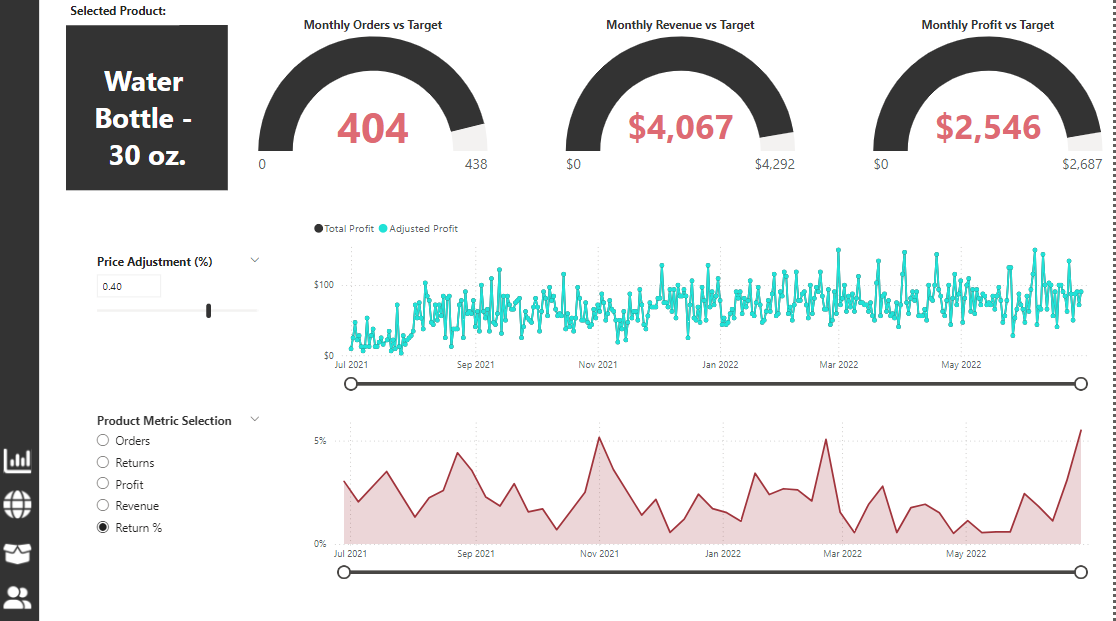

The dashboard page shown, as its layout file describes it:
{"tool":"powerbi","page":{"name":"Product Detail","canvas":[1280,720],"ordinal":2},"visuals":[{"type":"shape","box":[0,0,45,720],"z":0},{"type":"actionButton","box":[0,512.2,44.8,40.3],"z":0,"group":"g1"},{"type":"gauge","title":"Monthly Orders vs Target","fields":{"Y":["Measure Table.Total Orders"],"MaxValue":["Measure Table.Order Target"]},"box":[284.1,20,287.8,191.1],"z":1000},{"type":"actionButton","box":[0,562.3,44.8,40.3],"z":1000,"group":"g1"},{"type":"gauge","title":"Monthly Profit vs Target","fields":{"MaxValue":["Measure Table.Profit Target"],"Y":["Measure Table.Total Profit"]},"box":[992.2,20,287.8,191.1],"z":2000},{"type":"actionButton","box":[0,619.7,44.8,40.3],"z":2000,"group":"g1"},{"type":"gauge","title":"Monthly Revenue vs Target","fields":{"Y":["Measure Table.Total Revenue"],"MaxValue":["Measure Table.Revenue Target"]},"box":[638.1,20,287.8,191.1],"z":3000},{"type":"actionButton","box":[0,668.9,44.8,40.3],"z":3000,"group":"g1"},{"type":"lineChart","title":"Profit Trending","fields":{"Category":["Calendar Lookup.Date Hierarchy.Start of Year","Calendar Lookup.Date Hierarchy.Start of Month","Calendar Lookup.Date Hierarchy.Start of Week","Calendar Lookup.Date Hierarchy.Date"],"Y":["Measure Table.Total Profit","Measure Table.Adjusted Profit"]},"box":[354.6,244.5,916.1,209.6],"z":4000},{"type":"areaChart","title":"Return Trending","fields":{"Y":["Measure Table.Return Rate"],"Category":["Calendar Lookup.Date Hierarchy.Start of Year","Calendar Lookup.Date Hierarchy.Start of Month","Calendar Lookup.Date Hierarchy.Start of Week","Calendar Lookup.Date Hierarchy.Date"]},"box":[354.6,470.1,916.1,200.6],"z":5000},{"type":"card","fields":{"Values":["Min(Product Lookup.ProductName)"]},"box":[76,31,186,190],"z":6000},{"type":"textbox","box":[76,0,130,31],"z":7000},{"type":"group","id":"g1","title":"Navigation Buttons","box":[0,512.2,44.8,197],"z":8000},{"type":"slicer","fields":{"Values":["Price Adjustment (%) 2.Price Adjustment (%)"]},"box":[97.6,287.5,212.2,166.6],"z":9000},{"type":"slicer","fields":{"Values":["Product Metric Selection.Product Metric Selection"]},"box":[97.6,470.1,212.2,200.6],"z":10000}]}

Visuals, with their boxes on the page's 1280x720 design canvas (x1, y1, x2, y2). These are canvas units, not pixel positions in the 1116x621 screenshot, which may show the page scaled, cropped or inside an application window:
shape: [0,0,45,720]
actionButton: [0,512,45,552]
"Monthly Orders vs Target" gauge: [284,20,572,211]
actionButton: [0,562,45,603]
"Monthly Profit vs Target" gauge: [992,20,1280,211]
actionButton: [0,620,45,660]
"Monthly Revenue vs Target" gauge: [638,20,926,211]
actionButton: [0,669,45,709]
"Profit Trending" lineChart: [355,244,1271,454]
"Return Trending" areaChart: [355,470,1271,671]
card - Min(Product Lookup.ProductName): [76,31,262,221]
textbox: [76,0,206,31]
"Navigation Buttons" group: [0,512,45,709]
slicer - Price Adjustment (%) 2.Price Adjustment (%): [98,288,310,454]
slicer - Product Metric Selection.Product Metric Selection: [98,470,310,671]
